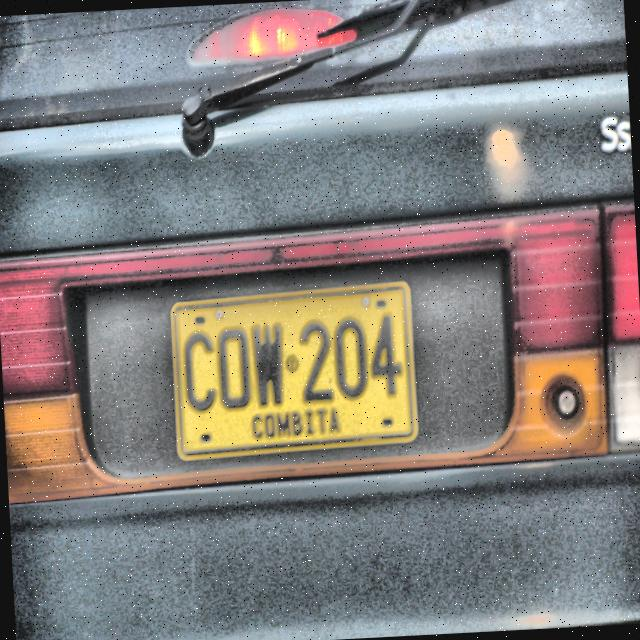plate: (170, 280, 419, 462)
